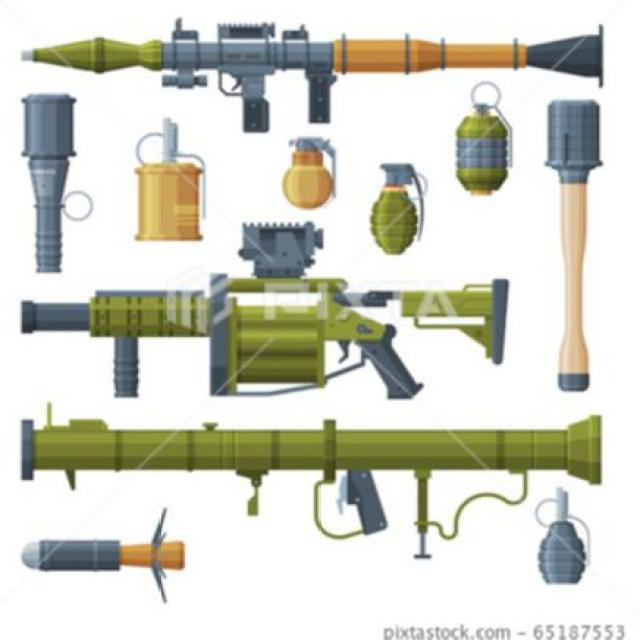grenade: (455, 82, 513, 196), (536, 487, 593, 589), (370, 162, 427, 256), (282, 135, 339, 212)
